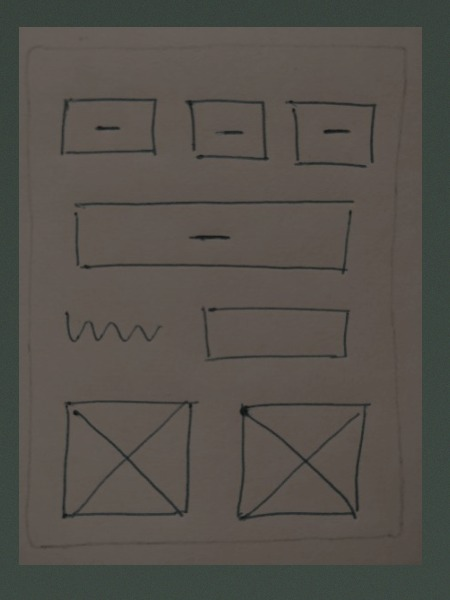button: (67, 194, 362, 277), (49, 90, 171, 162), (281, 92, 384, 177), (182, 93, 273, 165)
image: (51, 388, 206, 519), (231, 390, 374, 527)
text: (56, 305, 169, 353)
text_input: (194, 300, 359, 371)
